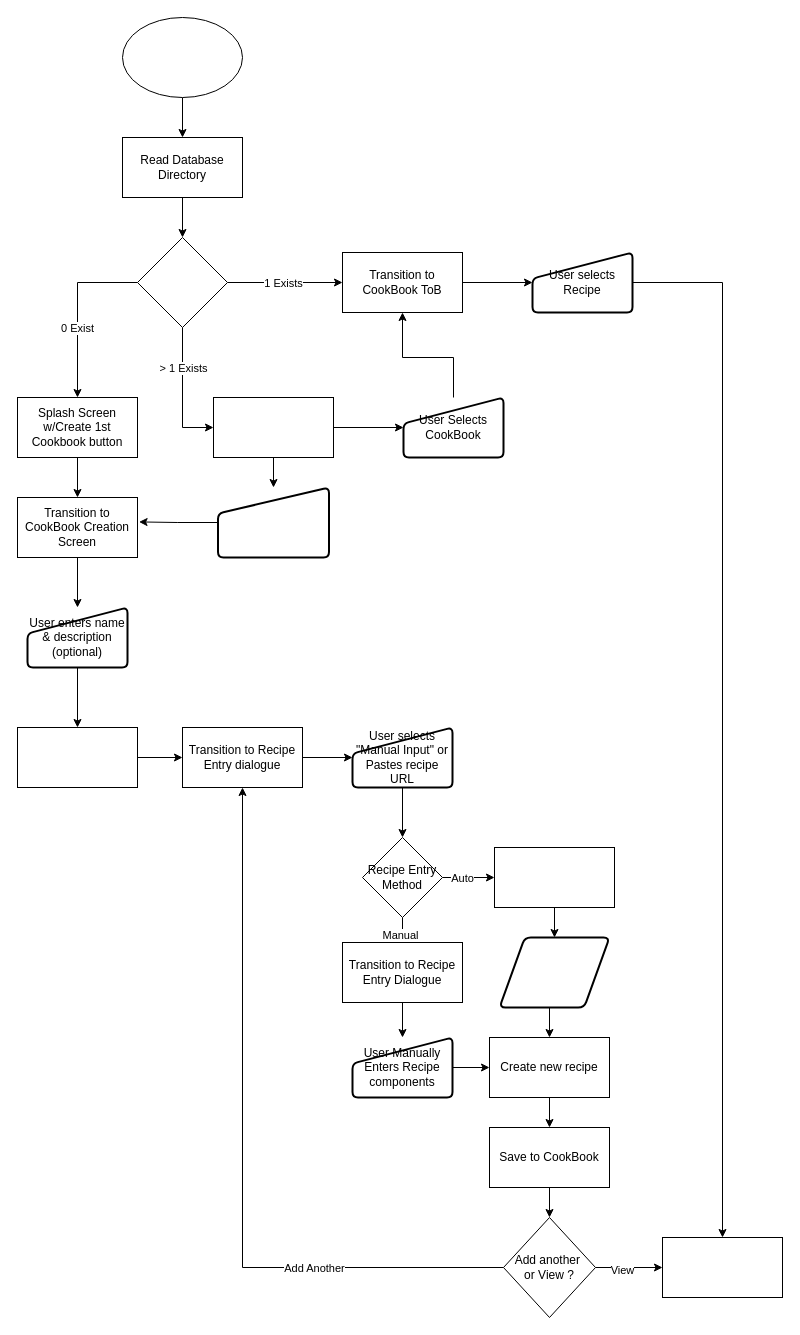
Some shapes in this 800 by 1335 pixel diagram are drawn without their labels. Here are the shapes that lost their labels. From the top down, the centre of each, then its label:
point 182,57: App Start
point 182,282: Cookbooks Exist?
point 273,427: Transition to BookShelf Screen
point 273,522: User Selects "Write New CookBook"
point 77,757: Create New Cookbook, set as current
point 554,877: Transition to Loading Screen
point 554,972: Retrieve Recipe Data
point 722,1267: Transition to Recipe Screen
